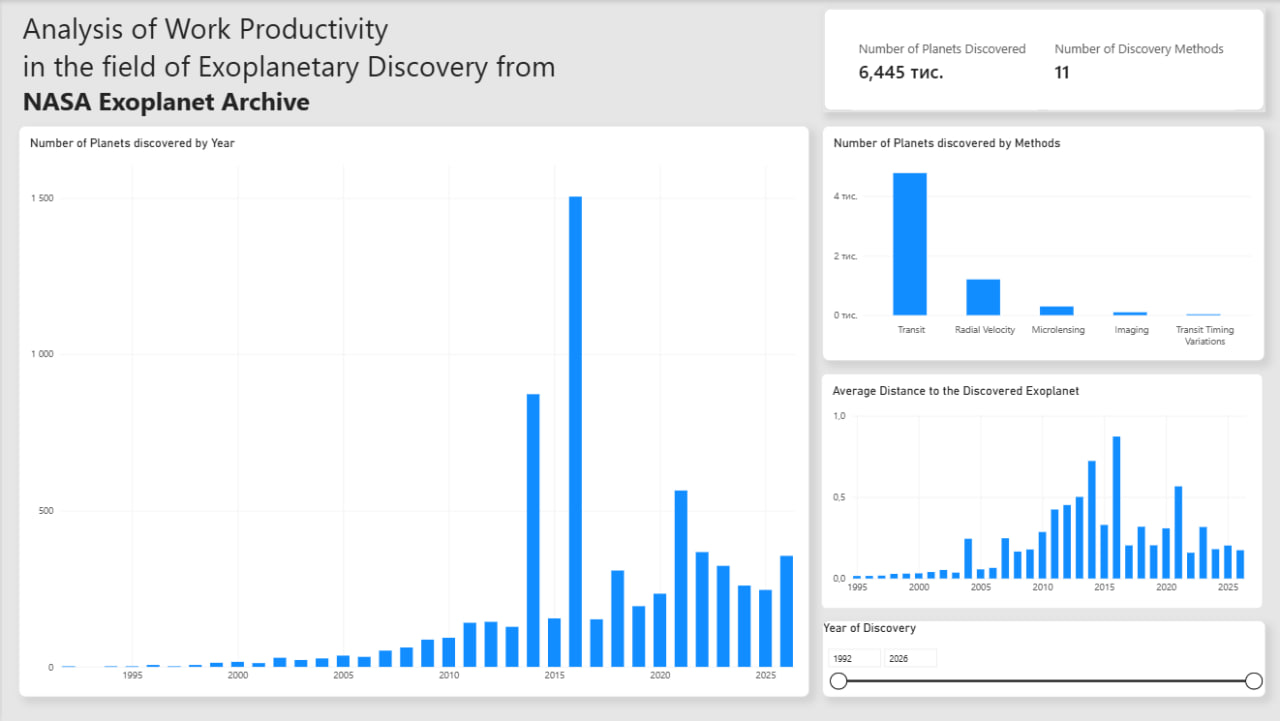

What the dashboard file says about the page in this screenshot:
{"tool":"powerbi","page":{"name":"Planetary","canvas":[1920,1080],"ordinal":0},"visuals":[{"type":"lineClusteredColumnComboChart","title":"Number of Planets discovered by Year","fields":{"Category":["PSCompPars_2026 10 13_22 46 25.Discovery_Year"],"Y":["CountNonNull(PSCompPars_2026 10 13_22 46 25.Num_of_Planets)"]},"box":[25.3,188.2,1181.7,854.2],"z":0},{"type":"lineStackedColumnComboChart","title":"Number of Planets discovered by Methods","fields":{"Category":["PSCompPars_2026 10 13_22 46 25.Discovery_method"],"Y":["CountNonNull(PSCompPars_2026 10 13_22 46 25.Num_of_Planets)"]},"box":[1227,188.2,660.5,351.1],"z":1000},{"type":"slicer","title":"Year of Discovery","fields":{"Values":["PSCompPars_2026 10 13_22 46 25.Discovery_Year"]},"box":[1227,928.4,662.3,114],"z":2000},{"type":"shape","box":[1226.8,10.3,662.8,156.4],"z":2500},{"type":"cardVisual","fields":{"Data":["CountNonNull(PSCompPars_2026 10 13_22 46 25.Num_of_Planets)"]},"box":[1265,21.7,290.2,143],"z":3000},{"type":"textbox","box":[30.9,10.3,1070.3,187.3],"z":4000},{"type":"cardVisual","fields":{"Data":["Count(PSCompPars_2026 10 13_22 46 25.Discovery_method)"]},"box":[1558.1,21.7,290,143],"z":6000},{"type":"clusteredColumnChart","title":"Average Distance to the  Discovered Exoplanet","fields":{"Category":["PSCompPars_2026 10 13_22 46 25.Discovery_Year"],"Y":["PSCompPars_2026 10 13_22 46 25.Average-Distance"]},"box":[1225.1,559.2,660,351],"z":6001}]}

Visuals, with their boxes in screenshot pixels (x1, y1, x2, y2), scaled from the page's 1920x1080 canvas onto the 1280x721 screenshot:
"Number of Planets discovered by Year" lineClusteredColumnComboChart: {"x1": 17, "y1": 126, "x2": 805, "y2": 696}
"Number of Planets discovered by Methods" lineStackedColumnComboChart: {"x1": 818, "y1": 126, "x2": 1258, "y2": 360}
"Year of Discovery" slicer: {"x1": 818, "y1": 620, "x2": 1260, "y2": 696}
shape: {"x1": 818, "y1": 7, "x2": 1260, "y2": 111}
cardVisual - CountNonNull(PSCompPars_2026 10 13_22 46 25.Num_of_Planets): {"x1": 843, "y1": 14, "x2": 1037, "y2": 110}
textbox: {"x1": 21, "y1": 7, "x2": 734, "y2": 132}
cardVisual - Count(PSCompPars_2026 10 13_22 46 25.Discovery_method): {"x1": 1039, "y1": 14, "x2": 1232, "y2": 110}
"Average Distance to the  Discovered Exoplanet" clusteredColumnChart: {"x1": 817, "y1": 373, "x2": 1257, "y2": 608}
